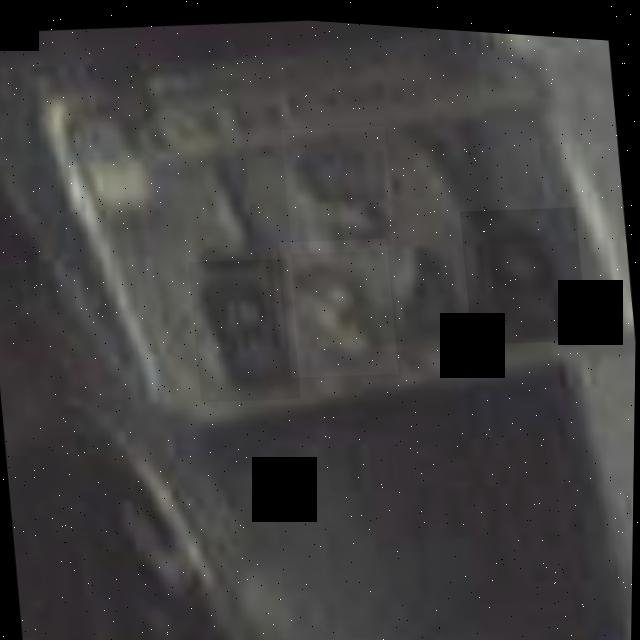3: (278, 227, 401, 379)
4: (372, 206, 492, 369)
8: (459, 193, 590, 343)
9: (187, 249, 303, 405)
P: (279, 115, 397, 255)
